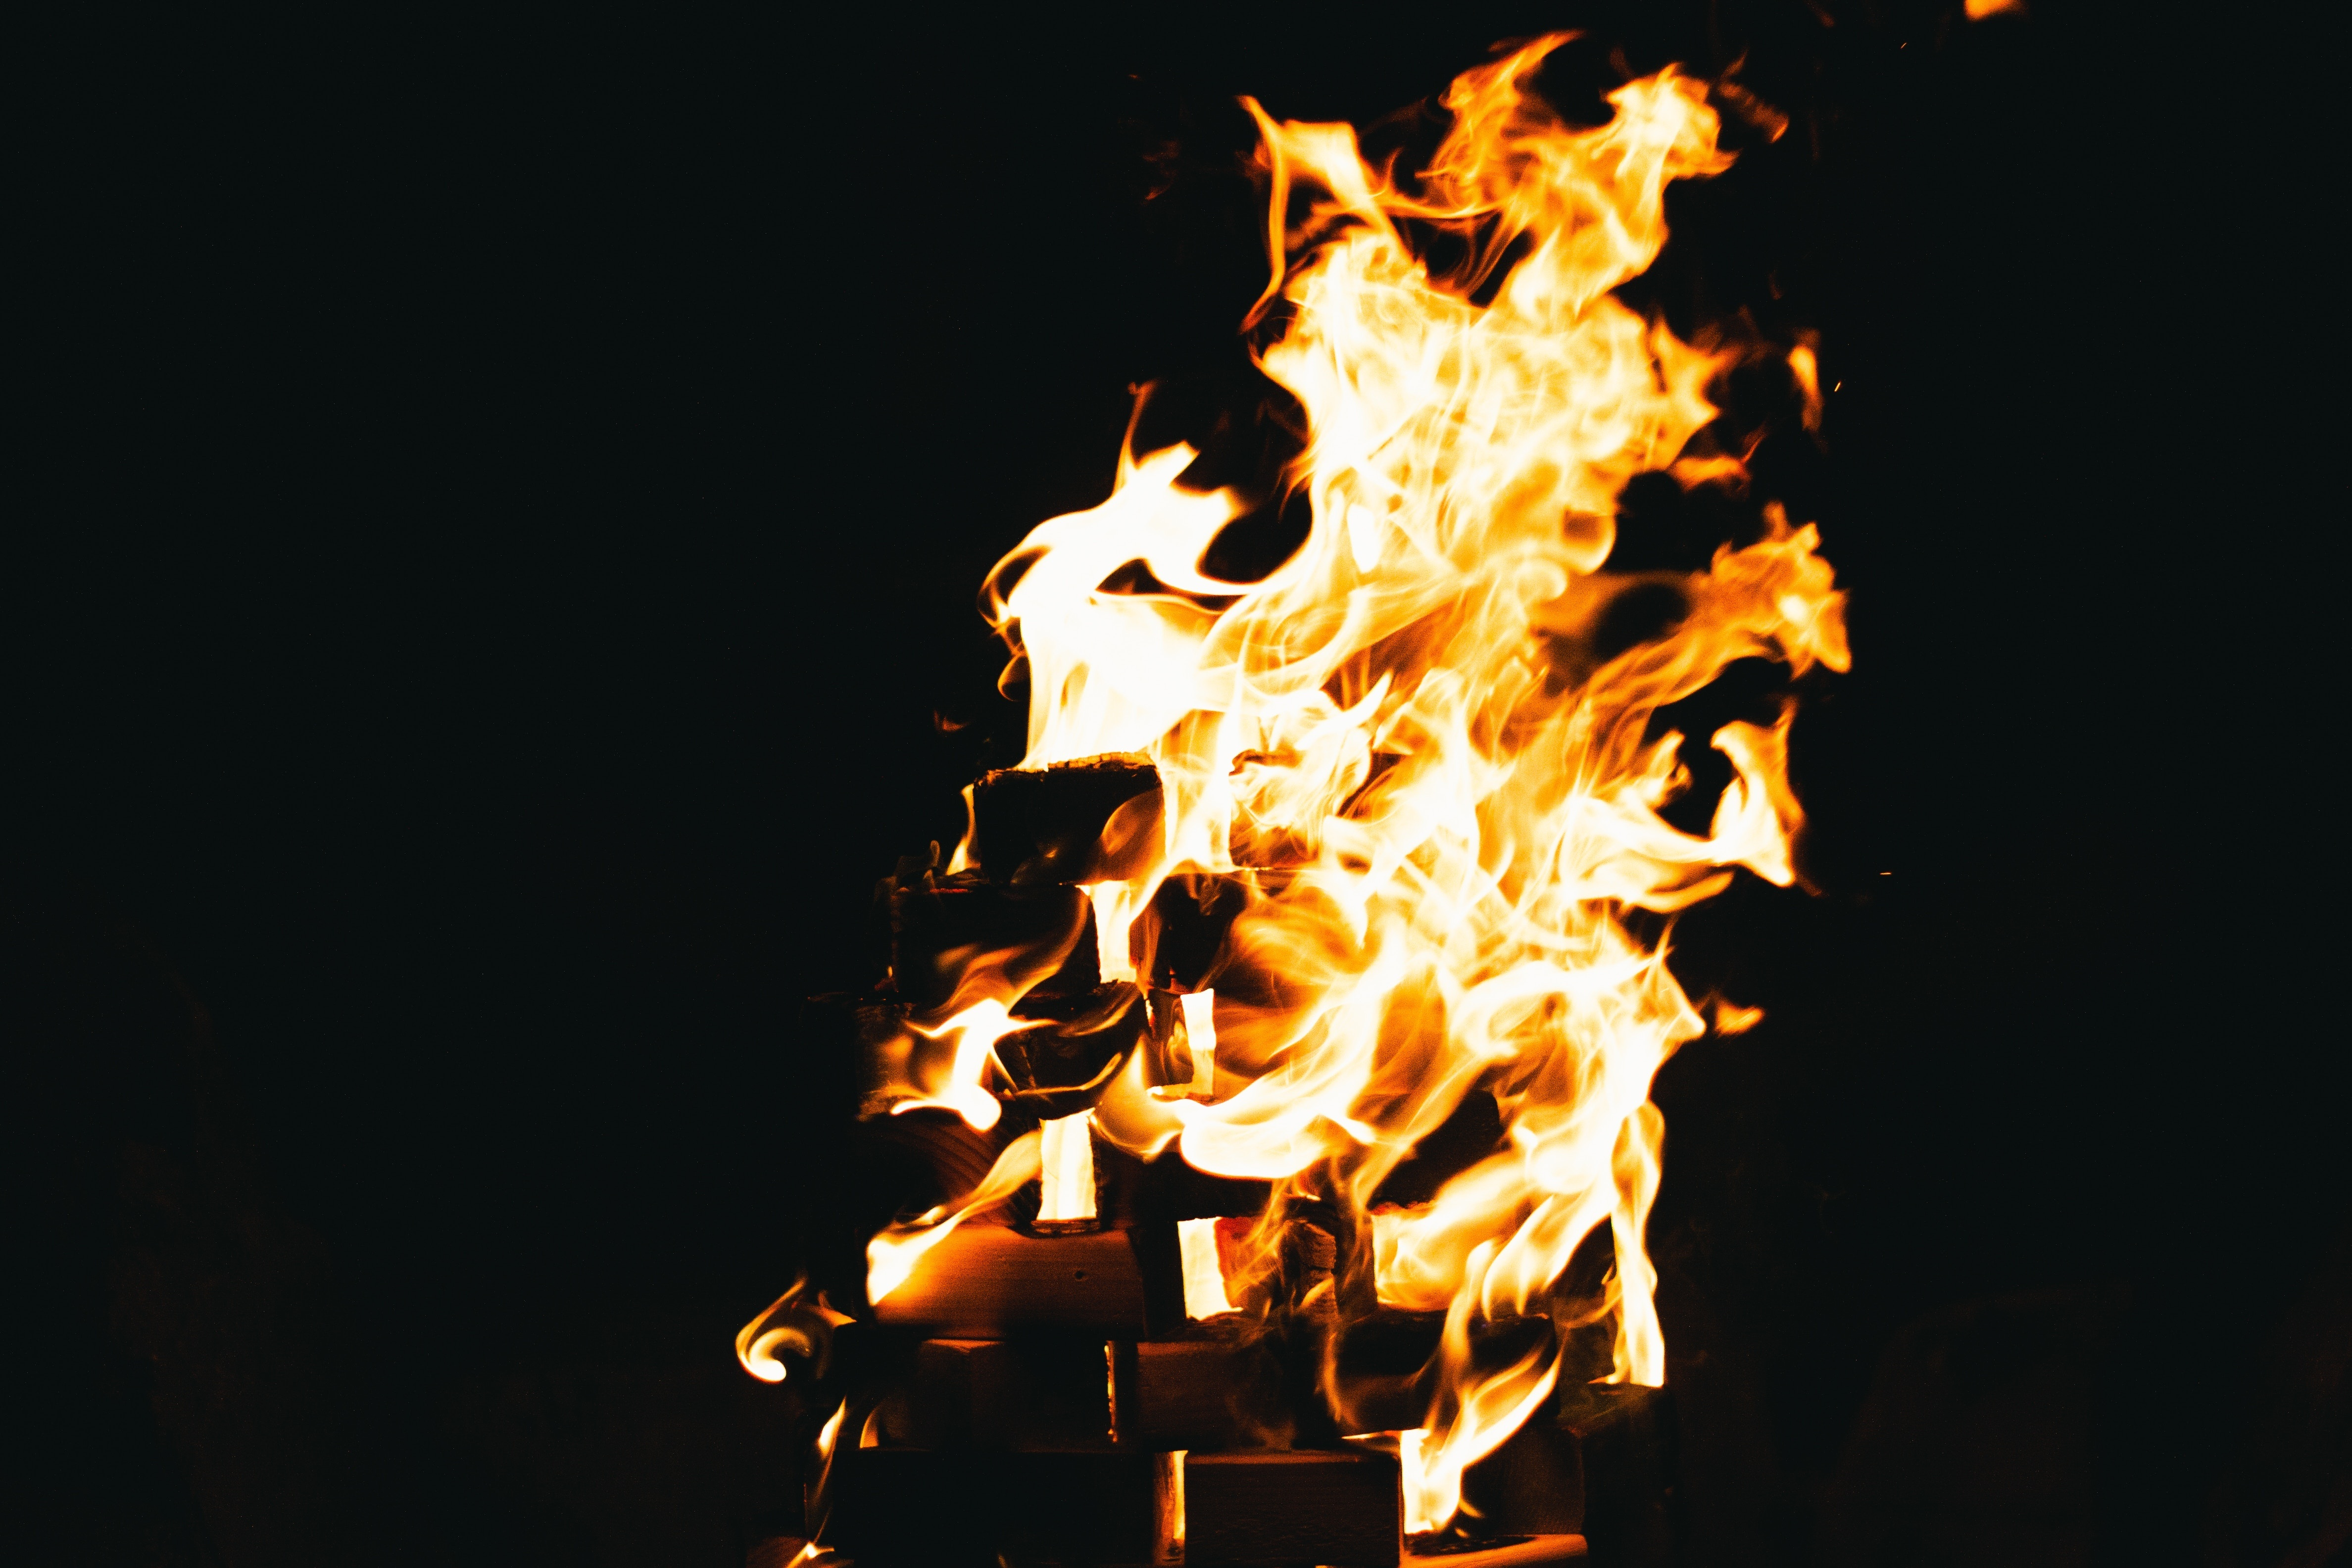fire: (845, 82, 1878, 1559)
